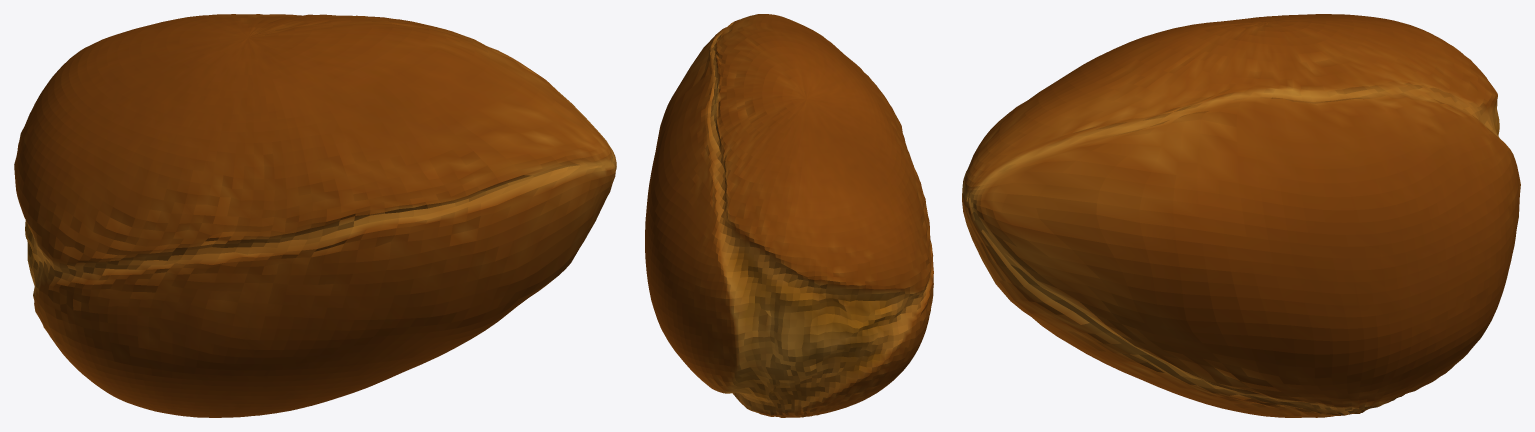
Rendered from ziarno.fbx.
3 views of the same model, side by side, from view 1: azimuth 30°, elevation 25°; view 2: azimuth 150°, elevation 25°; view 3: azimuth 270°, elevation 25° (orthographic). The views are drawn at different scales.
Parts seen in each view (by area): view 1: ArganZJ-model; view 2: ArganZJ-model; view 3: ArganZJ-model.
Part boxes in pixels (x1,y1,x2,y2): ArganZJ-model: (14,14,616,417); ArganZJ-model: (645,14,933,417); ArganZJ-model: (962,14,1520,417).
Bounding box in the file's own units: 302 × 281 × 353.
